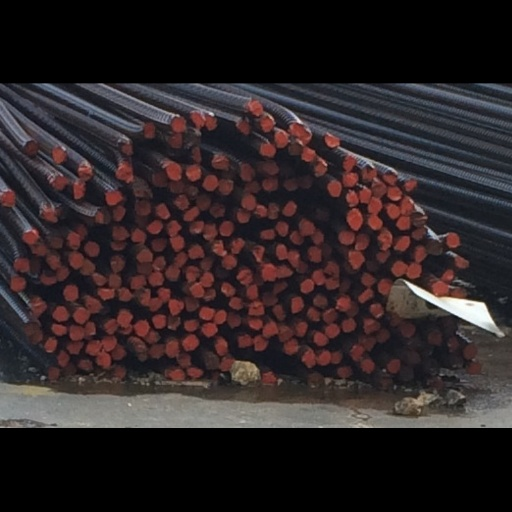dipstick: (88, 205, 109, 228), (22, 321, 44, 342), (37, 206, 58, 224), (345, 210, 363, 230), (113, 164, 133, 182), (70, 180, 90, 198), (28, 298, 46, 317), (48, 145, 67, 163), (115, 309, 135, 326), (181, 334, 199, 352), (287, 122, 306, 139), (109, 224, 128, 241), (67, 250, 84, 269), (11, 256, 30, 273), (133, 199, 153, 215), (360, 318, 381, 333), (69, 306, 90, 321), (202, 224, 220, 241), (109, 203, 127, 220), (131, 343, 149, 360), (132, 318, 150, 335), (66, 324, 84, 341), (82, 241, 100, 258), (0, 191, 17, 209), (376, 231, 392, 250), (105, 190, 125, 205), (166, 338, 181, 358), (247, 99, 264, 116), (371, 179, 388, 196), (277, 325, 294, 342), (200, 174, 217, 191), (211, 241, 228, 258), (187, 281, 204, 298), (366, 197, 382, 215), (281, 339, 299, 355), (281, 173, 299, 189), (236, 267, 252, 285), (246, 316, 264, 332), (164, 218, 180, 236), (203, 353, 221, 369), (134, 246, 152, 262), (141, 329, 159, 345), (53, 350, 71, 366), (63, 233, 81, 249), (53, 265, 71, 281), (76, 160, 92, 178), (24, 137, 39, 156), (312, 207, 331, 222), (134, 262, 154, 276), (187, 112, 204, 128), (170, 116, 187, 132), (341, 154, 357, 171), (390, 259, 406, 276), (348, 250, 364, 267), (462, 343, 479, 359), (360, 335, 376, 352), (271, 306, 287, 323), (250, 244, 266, 261), (164, 164, 181, 180), (217, 220, 234, 236), (171, 250, 187, 267), (135, 288, 151, 305), (146, 296, 162, 313), (75, 356, 92, 372), (82, 320, 98, 337), (74, 224, 90, 241), (326, 179, 341, 197), (259, 265, 277, 280), (216, 180, 234, 195), (208, 203, 226, 218), (247, 303, 265, 318), (134, 183, 152, 198), (99, 335, 117, 350), (84, 340, 102, 355), (94, 353, 112, 368), (61, 285, 79, 300), (84, 297, 102, 312), (116, 287, 134, 302), (31, 242, 49, 257), (257, 142, 276, 156), (166, 299, 185, 313), (149, 238, 168, 252), (49, 322, 68, 336), (50, 307, 69, 321), (111, 237, 130, 251), (310, 158, 326, 174), (339, 316, 355, 332), (152, 173, 168, 189), (220, 282, 236, 298), (184, 266, 200, 282), (213, 339, 229, 355), (164, 265, 180, 281), (152, 256, 168, 272), (41, 269, 57, 285), (211, 155, 228, 170), (431, 281, 448, 296), (366, 215, 383, 230), (342, 171, 359, 186), (315, 349, 330, 366), (289, 296, 304, 313), (261, 176, 278, 191), (262, 322, 277, 339), (196, 195, 211, 212), (155, 203, 170, 220), (165, 316, 182, 331), (109, 256, 126, 271), (323, 306, 337, 324), (276, 265, 294, 279), (97, 286, 115, 300), (78, 260, 96, 274), (48, 174, 66, 188), (238, 163, 251, 182), (166, 180, 185, 193), (272, 129, 287, 145), (361, 165, 376, 181), (388, 186, 404, 201), (411, 211, 426, 227), (412, 247, 428, 262), (394, 236, 409, 252), (376, 279, 392, 294), (466, 359, 482, 374), (359, 357, 374, 373), (324, 259, 339, 275), (302, 351, 318, 366), (299, 278, 315, 293), (310, 270, 326, 285), (300, 220, 315, 236), (252, 336, 268, 351), (251, 202, 267, 217), (228, 237, 244, 252), (220, 254, 236, 269), (202, 322, 218, 337), (220, 355, 236, 370), (129, 228, 145, 243), (10, 276, 26, 291), (168, 133, 182, 150), (407, 261, 421, 278), (344, 190, 358, 207), (364, 254, 378, 271), (383, 313, 400, 327), (400, 323, 417, 337), (386, 357, 400, 374), (307, 247, 321, 264), (281, 201, 298, 215), (188, 246, 205, 260), (148, 345, 165, 359), (102, 319, 119, 333), (106, 273, 123, 287), (21, 230, 38, 244), (448, 287, 466, 300), (129, 275, 147, 288), (446, 334, 458, 353), (168, 368, 187, 380), (235, 119, 250, 134), (383, 170, 398, 185), (358, 287, 373, 302), (369, 302, 384, 317), (313, 294, 328, 309), (240, 195, 255, 210), (169, 235, 184, 250), (148, 220, 163, 235), (148, 272, 163, 287), (259, 117, 275, 131), (427, 240, 443, 254), (386, 203, 400, 219), (354, 234, 368, 250), (335, 296, 351, 310), (294, 321, 308, 337), (310, 229, 324, 245), (183, 185, 199, 199), (246, 284, 260, 300), (173, 195, 189, 209), (198, 306, 214, 320), (185, 298, 201, 312), (150, 314, 166, 328), (359, 186, 372, 203), (361, 273, 378, 286), (340, 277, 353, 294), (271, 280, 288, 293), (260, 370, 277, 383), (261, 293, 278, 306), (260, 228, 277, 241), (188, 220, 205, 233), (287, 248, 299, 266), (203, 115, 217, 130), (397, 215, 411, 230), (338, 230, 353, 244), (427, 331, 442, 345), (330, 351, 344, 366), (337, 363, 352, 377), (341, 260, 356, 274), (287, 230, 302, 244), (186, 166, 201, 180), (118, 139, 133, 153), (227, 313, 241, 328), (201, 289, 216, 303), (213, 309, 227, 324), (158, 286, 173, 300), (49, 236, 64, 250), (263, 162, 279, 175), (323, 135, 339, 148), (324, 324, 340, 337), (295, 261, 308, 277), (183, 319, 199, 332), (176, 353, 192, 366), (110, 345, 126, 358), (91, 272, 108, 284), (189, 148, 203, 162), (411, 225, 425, 239), (345, 302, 359, 316), (199, 273, 213, 287), (183, 206, 197, 220), (46, 252, 60, 266), (287, 141, 302, 154), (446, 233, 459, 248), (400, 367, 415, 380), (350, 345, 363, 360), (301, 174, 314, 189), (237, 334, 252, 347), (198, 258, 213, 271), (188, 366, 203, 379), (267, 203, 279, 219), (275, 243, 286, 260), (301, 148, 315, 161), (400, 198, 413, 212), (315, 332, 329, 345), (374, 330, 389, 342), (244, 181, 259, 193), (274, 222, 289, 234), (220, 168, 235, 180), (228, 298, 243, 310), (43, 339, 58, 351), (440, 270, 456, 281), (48, 367, 61, 380), (305, 308, 319, 320), (321, 243, 333, 257), (375, 250, 390, 261), (324, 277, 339, 288), (141, 125, 154, 137), (403, 179, 416, 191), (455, 257, 468, 269), (405, 353, 419, 364), (237, 210, 249, 221)
